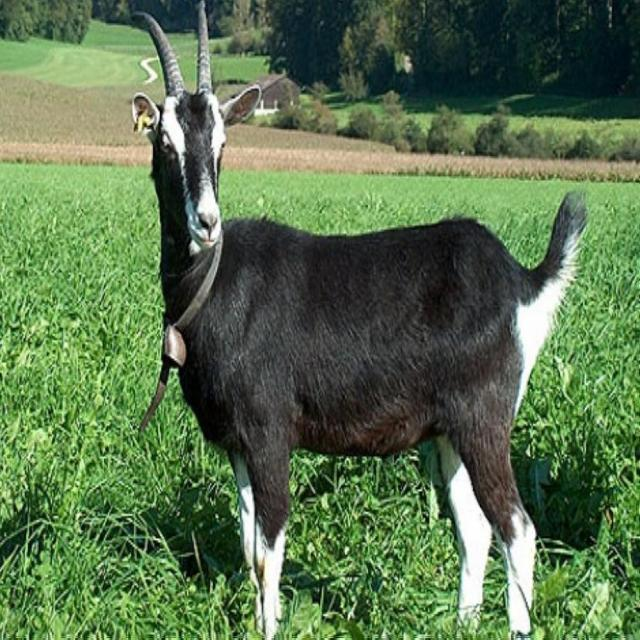goat: (123, 56, 595, 570)
